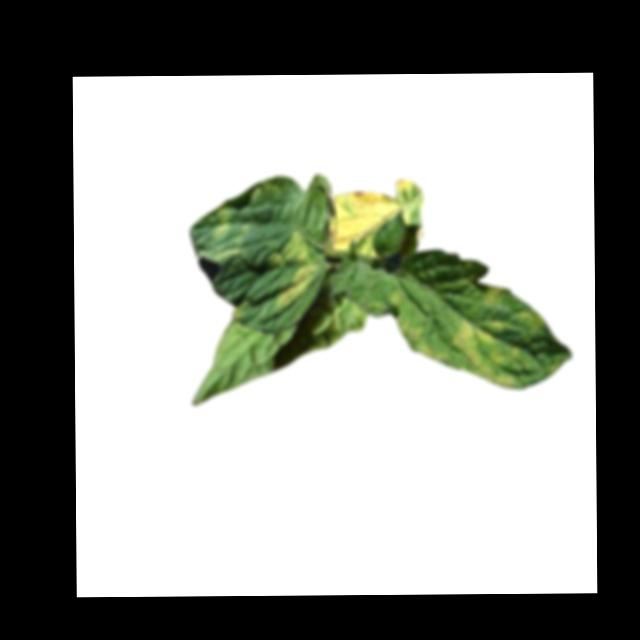Leaf_Mold: (453, 284, 543, 391), (326, 178, 423, 260), (268, 230, 319, 312)
